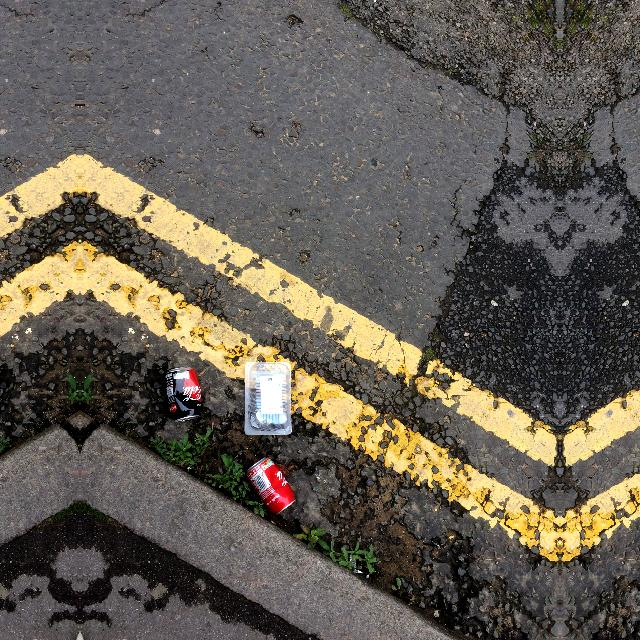Metal: (242, 453, 302, 517), (158, 358, 206, 424)
Plastic: (241, 356, 299, 442)
